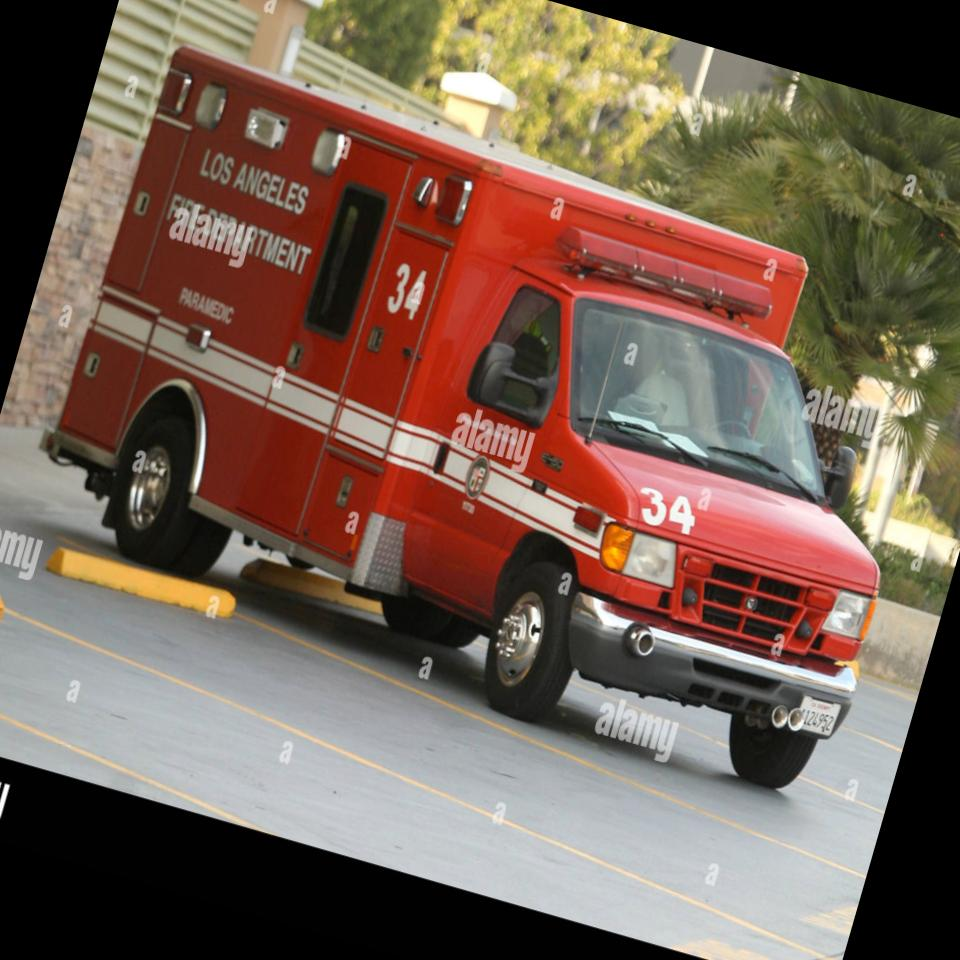viatura: (0, 29, 960, 813)
